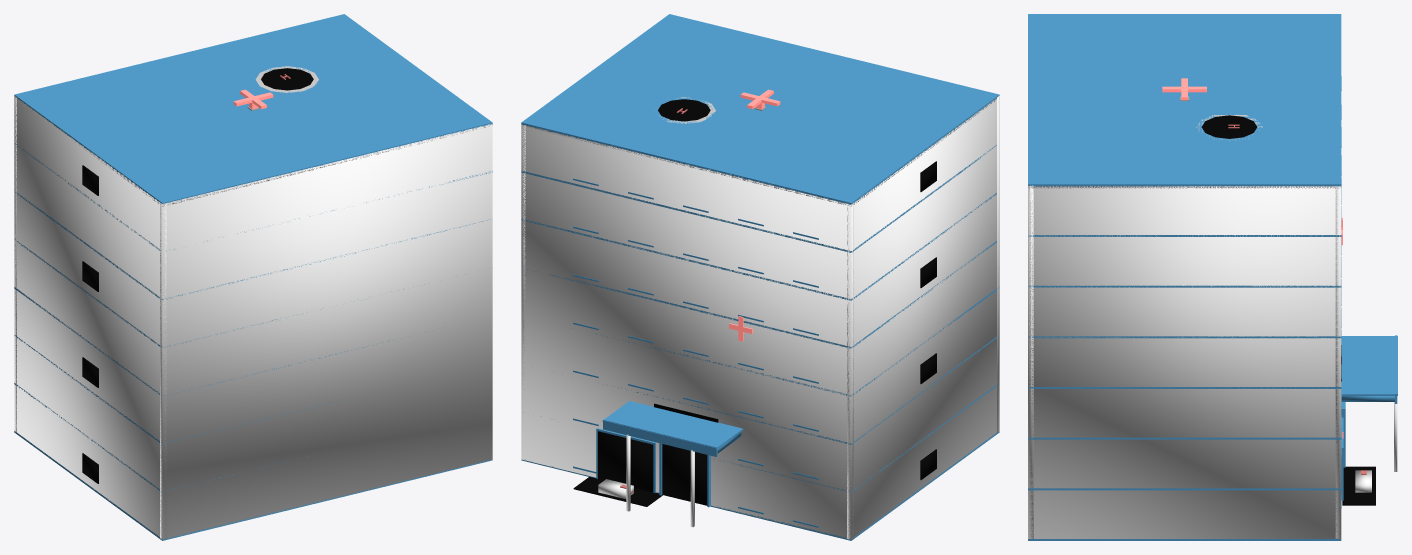
File: Building_3_6.glb
3 views of the same model, side by side, from view 1: azimuth 30°, elevation 25°; view 2: azimuth 150°, elevation 25°; view 3: azimuth 270°, elevation 25° (orthographic). The views are drawn at different scales.
Visible parts, largest first — view 1: Back, Left, Band_7, Band_0, Front, HelipadInner, Roof; view 2: Front, Left, Band_7, CanopyTrimT, ERRec, EntRec, CanopyTrimF, Band_6, Band_5, Back, Right, Band_4 (+6 smaller); view 3: Right, Band_7, CanopyTrimT, Front, Back, HelipadInner, AmbulanceBay, Band_1, Band_2, Band_4, Band_5, Roof (+3 smaller).
Part boxes in pixels (bbox=[...]): Back: bbox=[160, 124, 492, 539]; Left: bbox=[14, 96, 166, 538]; Band_7: bbox=[14, 14, 492, 203]; Band_0: bbox=[14, 431, 492, 540]; Front: bbox=[14, 96, 16, 432]; HelipadInner: bbox=[261, 68, 313, 90]; Roof: bbox=[17, 98, 485, 206]; Front: bbox=[521, 125, 853, 539]; Left: bbox=[847, 99, 999, 539]; Band_7: bbox=[521, 14, 999, 204]; CanopyTrimT: bbox=[602, 401, 743, 449]; ERRec: bbox=[598, 431, 653, 492]; EntRec: bbox=[662, 444, 707, 505]; CanopyTrimF: bbox=[603, 419, 717, 456]; Band_6: bbox=[521, 145, 996, 252]; Band_5: bbox=[521, 193, 996, 300]; Back: bbox=[997, 96, 999, 432]; Right: bbox=[521, 124, 525, 457]; Band_4: bbox=[526, 241, 996, 348]; Right: bbox=[1028, 186, 1341, 538]; Band_7: bbox=[1028, 14, 1341, 186]; CanopyTrimT: bbox=[1341, 336, 1397, 395]; Front: bbox=[1335, 186, 1341, 538]; Back: bbox=[1028, 185, 1033, 538]; HelipadInner: bbox=[1201, 115, 1257, 138]; AmbulanceBay: bbox=[1342, 466, 1375, 505]; Band_1: bbox=[1028, 488, 1341, 490]; Band_2: bbox=[1028, 437, 1341, 439]; Band_4: bbox=[1028, 336, 1341, 338]; Band_5: bbox=[1028, 285, 1341, 287]; Roof: bbox=[1028, 186, 1340, 188].
Bounding box in the file's own units: 3.61 × 3.63 × 3.3.
